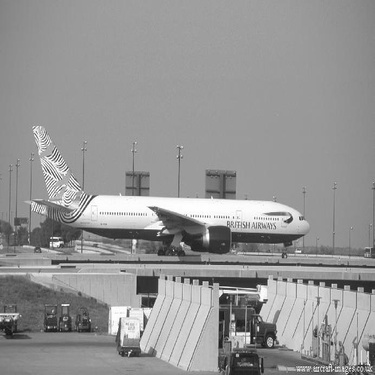airplane: (20, 122, 318, 259)
car: (32, 245, 43, 257)
